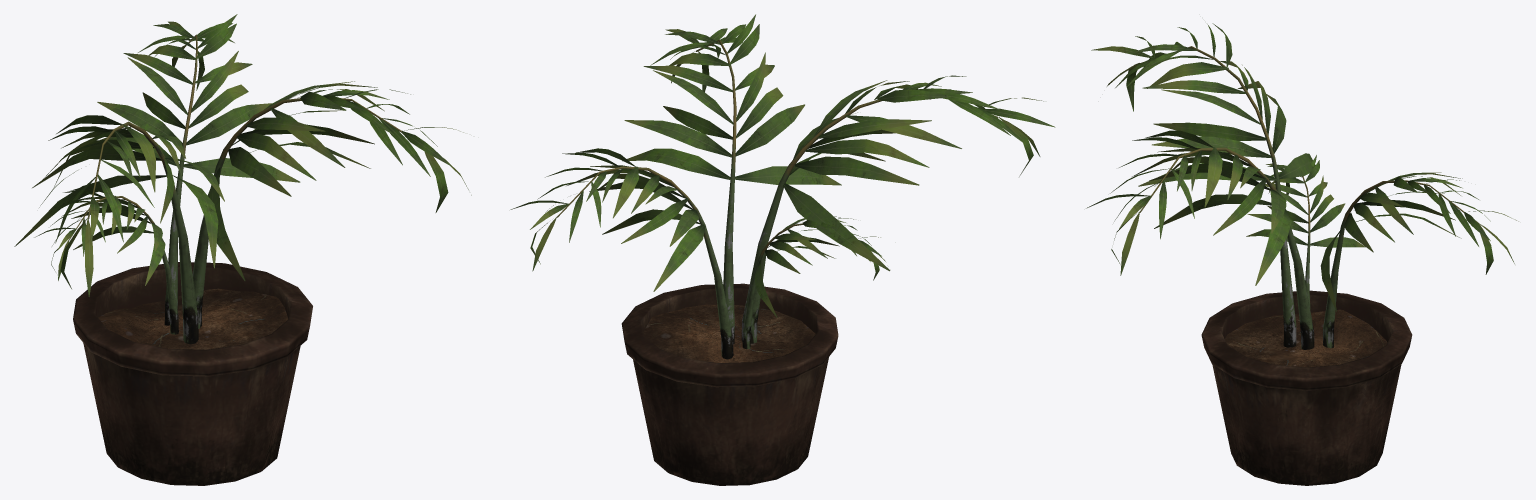
The model's file is areca_palm_lowpoly.glb.
The picture shows the model from 3 angles, left to right: view 1: azimuth 30°, elevation 25°; view 2: azimuth 150°, elevation 25°; view 3: azimuth 270°, elevation 25°; orthographic projection. The views are drawn at different scales.
Visible parts, largest first — view 1: Areca_Palm_0; view 2: Areca_Palm_0; view 3: Areca_Palm_0.
Boxes of the visible parts, left/top/right/bottom form: Areca_Palm_0: left=14, top=14, right=471, bottom=485; Areca_Palm_0: left=510, top=14, right=1055, bottom=485; Areca_Palm_0: left=1086, top=23, right=1518, bottom=485.
Bounding box in the file's own units: 1.76 × 1.55 × 1.73.
3 materials, 3 textured.
